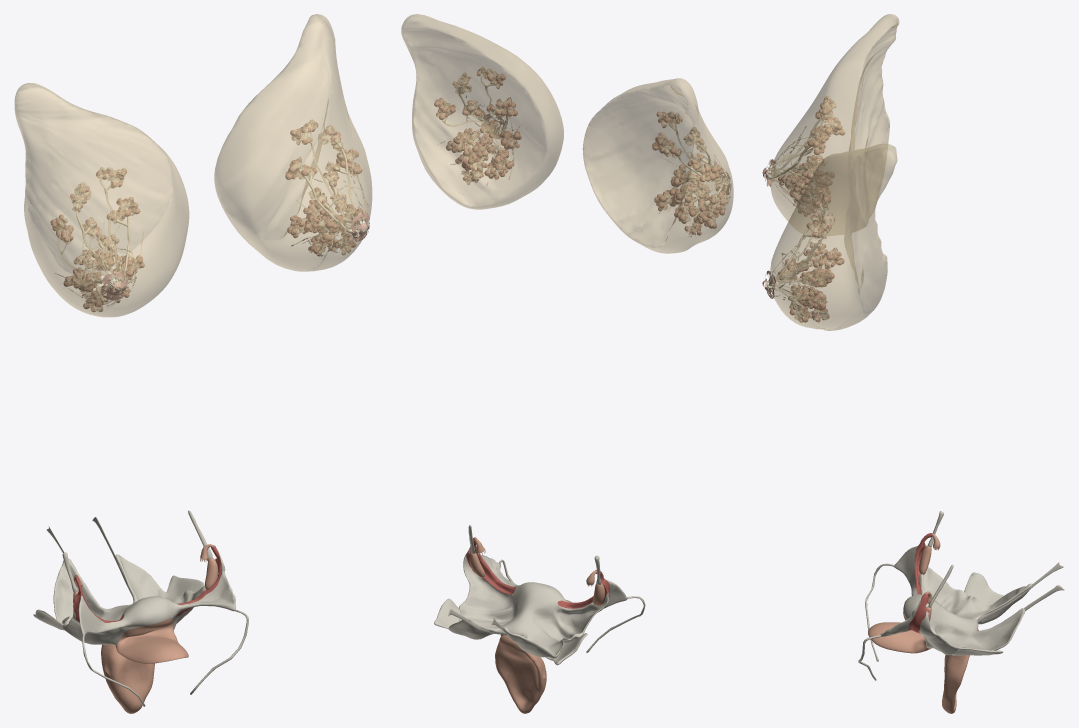
The model's file is adult_female.reproductive.LOD1.glb.
3 views of the same model, side by side, from view 1: azimuth 30°, elevation 25°; view 2: azimuth 150°, elevation 25°; view 3: azimuth 270°, elevation 25° (orthographic). The views are drawn at different scales.
Parts seen in each view (by area): view 1: ADULT.FEMALE.REPRODUCTIVE.MAMMARY_FAT.R, ADULT.FEMALE.REPRODUCTIVE.MAMMARY_FAT.L, ADULT.FEMALE.REPRODUCTIVE.BROAD_LIGAMENT, ADULT.FEMALE.REPRODUCTIVE.MAMMARY_LOBES.L, ADULT.FEMALE.REPRODUCTIVE.MAMMARY_LOBES.R, ADULT.FEMALE.REPRODUCTIVE.VAGINA, ADULT.FEMALE.REPRODUCTIVE.UTEROVESICAL_POUCH; view 2: ADULT.FEMALE.REPRODUCTIVE.MAMMARY_FAT.L, ADULT.FEMALE.REPRODUCTIVE.MAMMARY_FAT.R, ADULT.FEMALE.REPRODUCTIVE.BROAD_LIGAMENT, ADULT.FEMALE.REPRODUCTIVE.MAMMARY_LOBES.L, ADULT.FEMALE.REPRODUCTIVE.MAMMARY_LOBES.R, ADULT.FEMALE.REPRODUCTIVE.VAGINA; view 3: ADULT.FEMALE.REPRODUCTIVE.MAMMARY_FAT.L, ADULT.FEMALE.REPRODUCTIVE.MAMMARY_FAT.R, ADULT.FEMALE.REPRODUCTIVE.BROAD_LIGAMENT, ADULT.FEMALE.REPRODUCTIVE.MAMMARY_LOBES.L, ADULT.FEMALE.REPRODUCTIVE.MAMMARY_LOBES.R, ADULT.FEMALE.REPRODUCTIVE.UTEROVESICAL_POUCH, ADULT.FEMALE.REPRODUCTIVE.VAGINA, ADULT.FEMALE.REPRODUCTIVE.CARDINAL_LIGAMENT_OF_UTERUS.R.
Boxes of the visible parts, x1,y1,x2,y2 form: ADULT.FEMALE.REPRODUCTIVE.MAMMARY_FAT.R: (14, 83, 189, 317); ADULT.FEMALE.REPRODUCTIVE.MAMMARY_FAT.L: (214, 14, 372, 271); ADULT.FEMALE.REPRODUCTIVE.BROAD_LIGAMENT: (53, 552, 235, 645); ADULT.FEMALE.REPRODUCTIVE.MAMMARY_LOBES.L: (285, 119, 362, 256); ADULT.FEMALE.REPRODUCTIVE.MAMMARY_LOBES.R: (50, 167, 144, 311); ADULT.FEMALE.REPRODUCTIVE.VAGINA: (101, 644, 154, 713); ADULT.FEMALE.REPRODUCTIVE.UTEROVESICAL_POUCH: (115, 618, 188, 663); ADULT.FEMALE.REPRODUCTIVE.MAMMARY_FAT.L: (401, 14, 563, 209); ADULT.FEMALE.REPRODUCTIVE.MAMMARY_FAT.R: (582, 78, 733, 253); ADULT.FEMALE.REPRODUCTIVE.BROAD_LIGAMENT: (448, 552, 627, 658); ADULT.FEMALE.REPRODUCTIVE.MAMMARY_LOBES.L: (434, 67, 521, 184); ADULT.FEMALE.REPRODUCTIVE.MAMMARY_LOBES.R: (652, 111, 727, 236); ADULT.FEMALE.REPRODUCTIVE.VAGINA: (495, 651, 546, 713); ADULT.FEMALE.REPRODUCTIVE.MAMMARY_FAT.L: (769, 143, 897, 330); ADULT.FEMALE.REPRODUCTIVE.MAMMARY_FAT.R: (770, 14, 899, 235); ADULT.FEMALE.REPRODUCTIVE.BROAD_LIGAMENT: (880, 546, 1031, 655); ADULT.FEMALE.REPRODUCTIVE.MAMMARY_LOBES.L: (777, 188, 844, 322); ADULT.FEMALE.REPRODUCTIVE.MAMMARY_LOBES.R: (778, 96, 844, 216); ADULT.FEMALE.REPRODUCTIVE.UTEROVESICAL_POUCH: (868, 612, 931, 653); ADULT.FEMALE.REPRODUCTIVE.VAGINA: (942, 655, 968, 713); ADULT.FEMALE.REPRODUCTIVE.CARDINAL_LIGAMENT_OF_UTERUS.R: (964, 572, 1003, 605).
Bounding box in the file's own units: 0.289 × 0.5806 × 0.2498.
